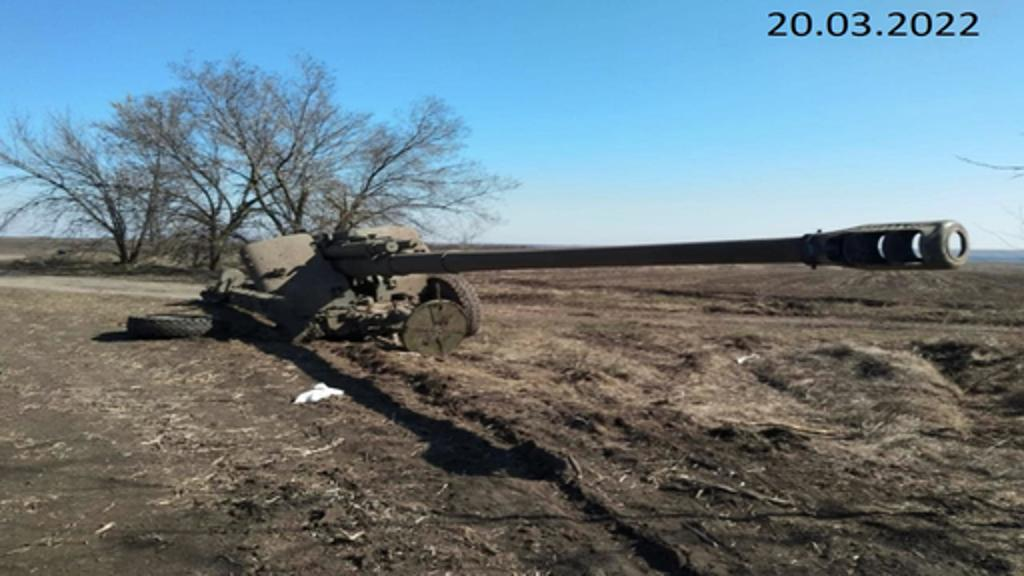ART: (202, 212, 974, 356)
